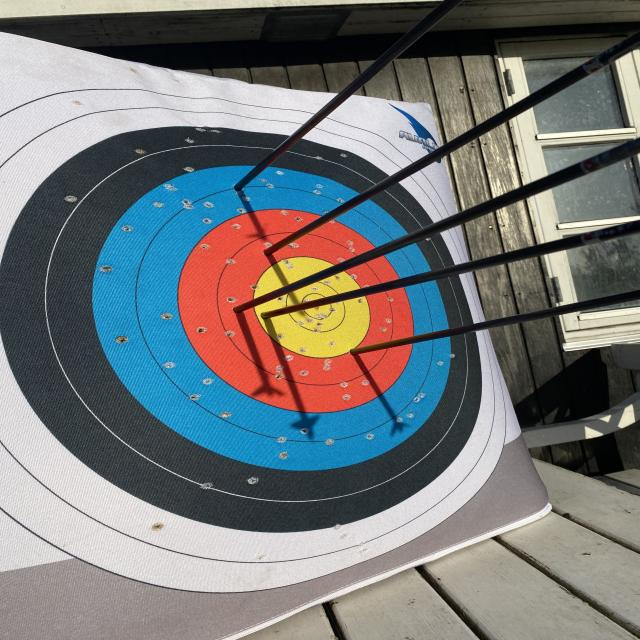Arrow_Blue: (222, 172, 259, 204)
Arrow_Red: (334, 341, 370, 368), (218, 300, 250, 326), (255, 242, 286, 262)
Arrow_Yellow: (252, 306, 282, 331)
